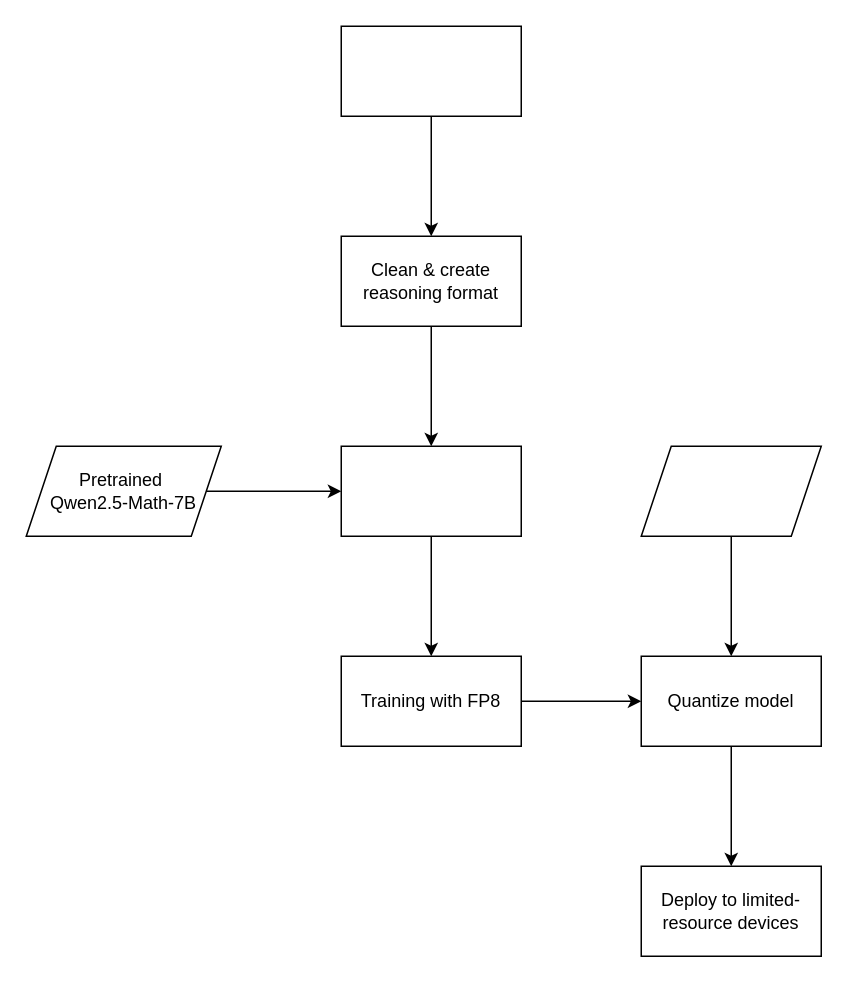
Image size: 848x983. Some labels were removed from this diagram. The box of each missing label's shape, as (x1, y1, x2, y2) in pixels:
AWQ: (640, 445, 821, 536)
Modify the base model to be FP8 compatible: (340, 445, 521, 536)
Public datasets, internet crawls: (340, 25, 521, 116)
